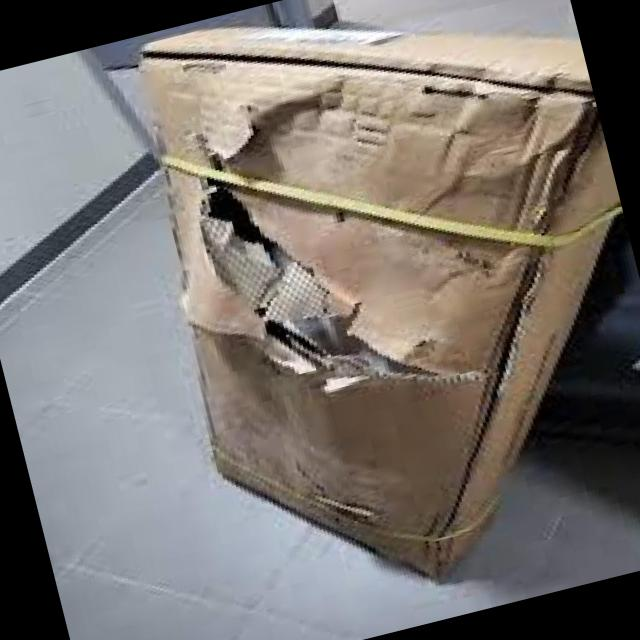box: (138, 25, 638, 582)
crushed: (518, 77, 615, 228)
opened: (196, 139, 486, 396)
